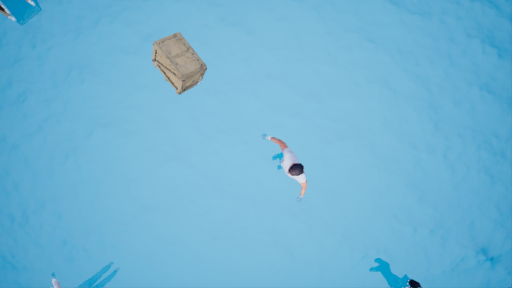person: (266, 132, 315, 199)
